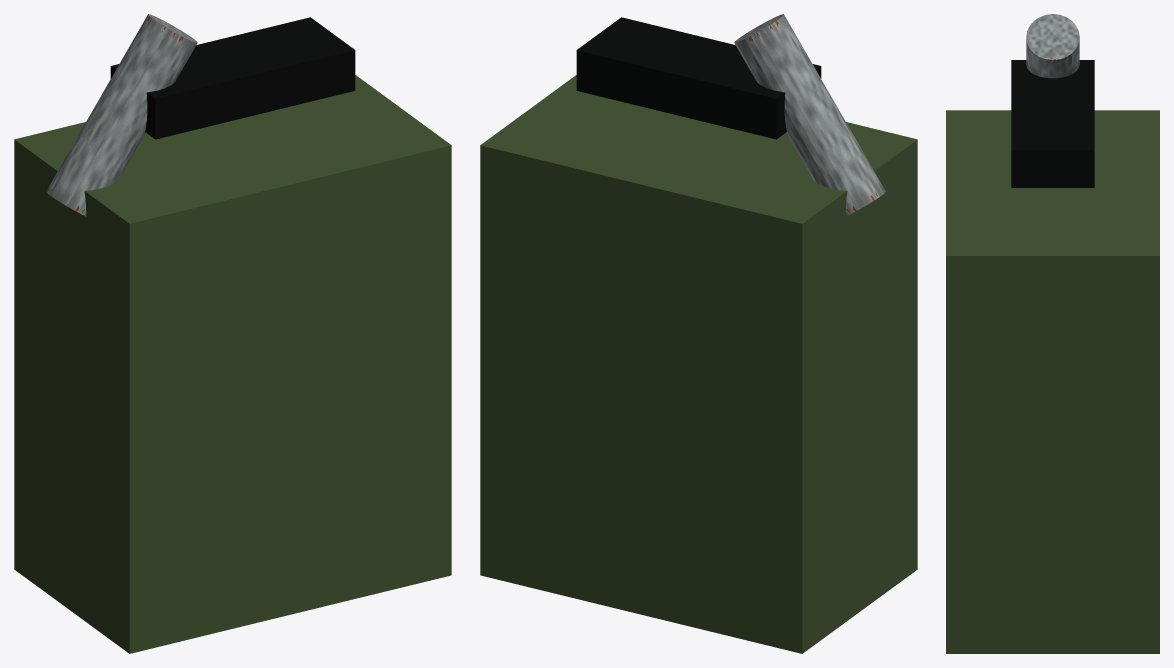
The model's file is Prop_CanPivot.obj.
The picture shows the model from 3 angles, left to right: view 1: azimuth 30°, elevation 25°; view 2: azimuth 150°, elevation 25°; view 3: azimuth 270°, elevation 25°; orthographic projection. The views are drawn at different scales.
Visible parts, largest first — view 1: DieselCan, CanHandle, CanSpout; view 2: DieselCan, CanHandle, CanSpout; view 3: DieselCan, CanHandle, CanSpout.
Part boxes in pixels (x1,y1,x2,y2): DieselCan: (14,75,451,653); CanHandle: (110,17,355,139); CanSpout: (46,14,197,216); DieselCan: (480,75,917,653); CanHandle: (576,17,821,139); CanSpout: (734,14,885,216); DieselCan: (946,110,1159,653); CanHandle: (1011,60,1094,187); CanSpout: (1026,14,1079,78).
Bounding box in the file's own units: 0.3093 × 0.4934 × 0.18.
Materials: 3 (1 with a texture image).
